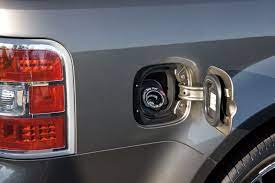open: (126, 54, 201, 133)
